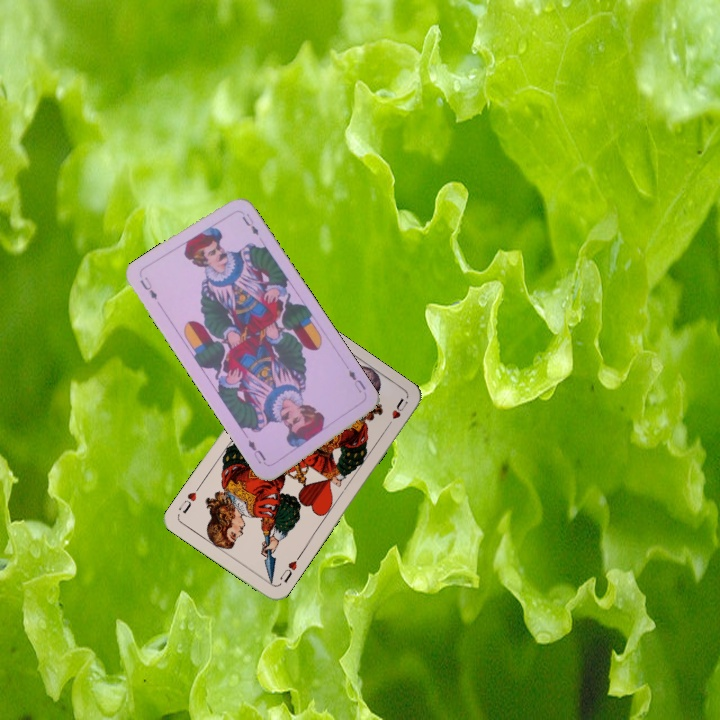EU: (344, 365, 369, 395), (136, 273, 160, 302)
HU: (276, 552, 303, 585)
